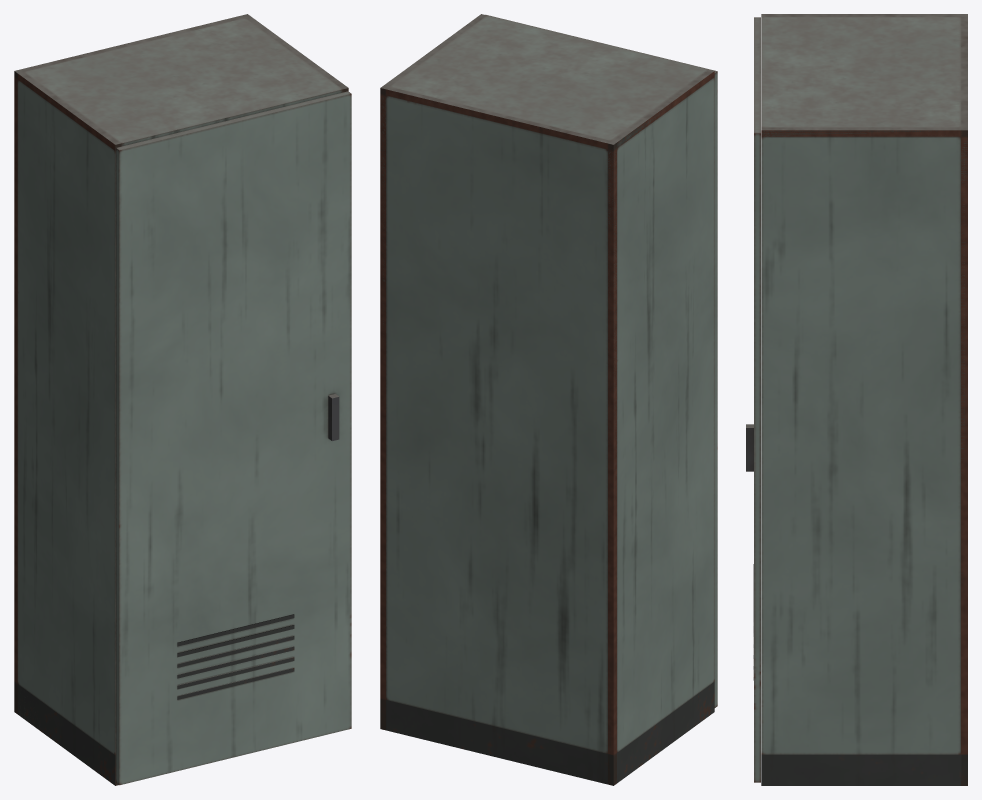
Rendered from SM_RelayCabinet_Closed.fbx.
The picture shows the model from 3 angles, left to right: view 1: azimuth 30°, elevation 25°; view 2: azimuth 150°, elevation 25°; view 3: azimuth 270°, elevation 25°; orthographic projection. The views are drawn at different scales.
Visible parts, largest first — view 1: SM_RelayCabinet_Closed; view 2: SM_RelayCabinet_Closed; view 3: SM_RelayCabinet_Closed.
Boxes of the visible parts, box(x1,y1,x2,y2) form: SM_RelayCabinet_Closed: box(14, 14, 351, 785); SM_RelayCabinet_Closed: box(380, 14, 717, 785); SM_RelayCabinet_Closed: box(746, 14, 967, 785).
Size of the model in its own units: 0.8 by 2.1 by 0.6445.
1 material, 1 textured.
